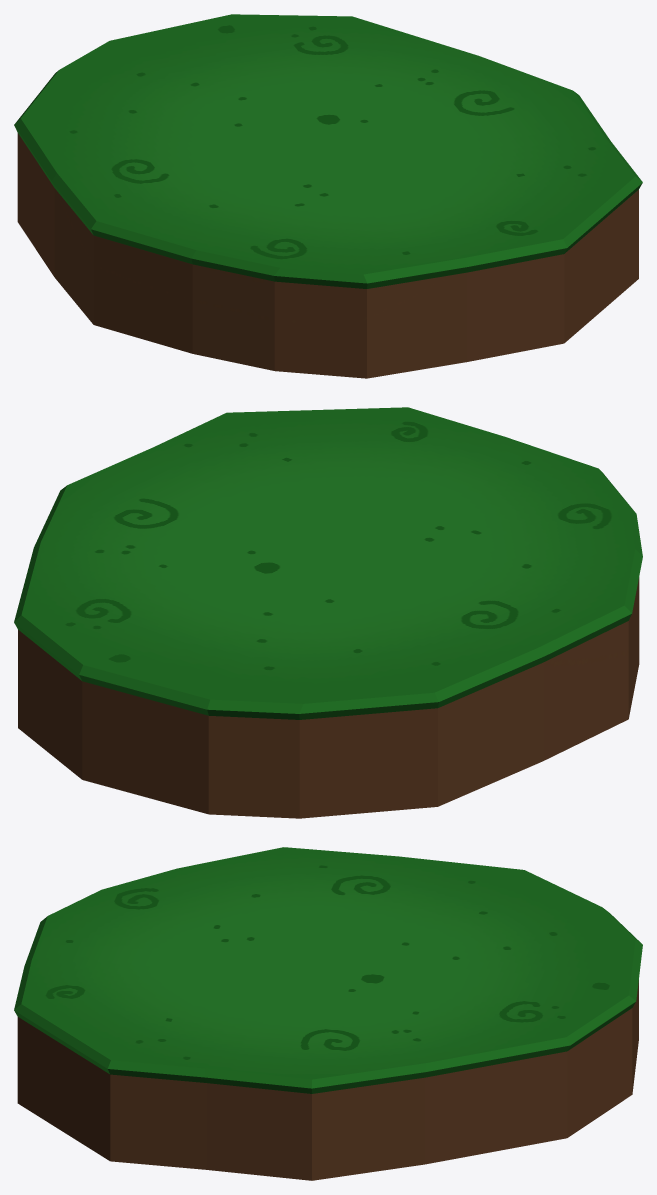
The model's file is SmallPlatform1.fbx.
3 renders of one model, top to bottom at view 1: azimuth 30°, elevation 25°; view 2: azimuth 150°, elevation 25°; view 3: azimuth 270°, elevation 25°, orthographic. The views are drawn at different scales.
Visible parts, largest first — view 1: Grasspatch2; view 2: Grasspatch2; view 3: Grasspatch2.
Boxes of the visible parts, x1=… form: Grasspatch2: x1=14, y1=14, x2=642, y2=378; Grasspatch2: x1=14, y1=407, x2=642, y2=818; Grasspatch2: x1=14, y1=847, x2=642, y2=1180.
Size of the model in its own units: 1069 by 209 by 1192.
1 material, 1 textured.
